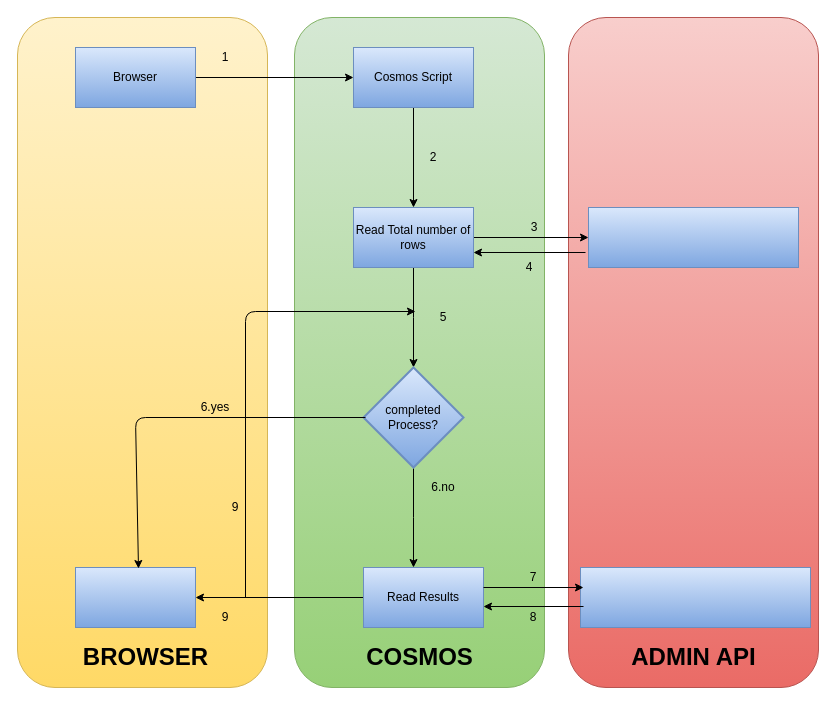
This 836x705 diagram has some shape labels left out. The shapes that lost their labels are listed below. From the top down, each one's box as (x1, y1, x2, y2) in pixels, then its label:
(588, 206, 798, 268): API_TO_GET_TOTAL_ROWS
(74, 566, 196, 628): Update Browser
(580, 566, 810, 628): API_PROCESS_WITH_START_LIMIT
